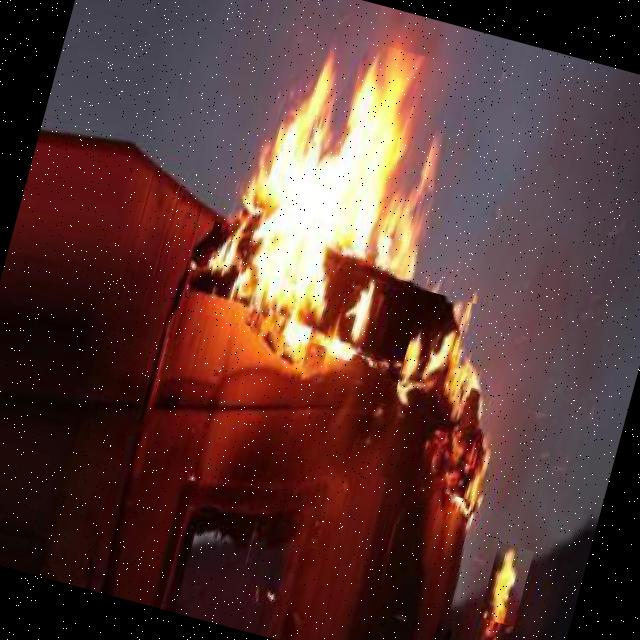fire: (200, 18, 484, 368), (373, 290, 560, 510), (478, 542, 534, 626)
